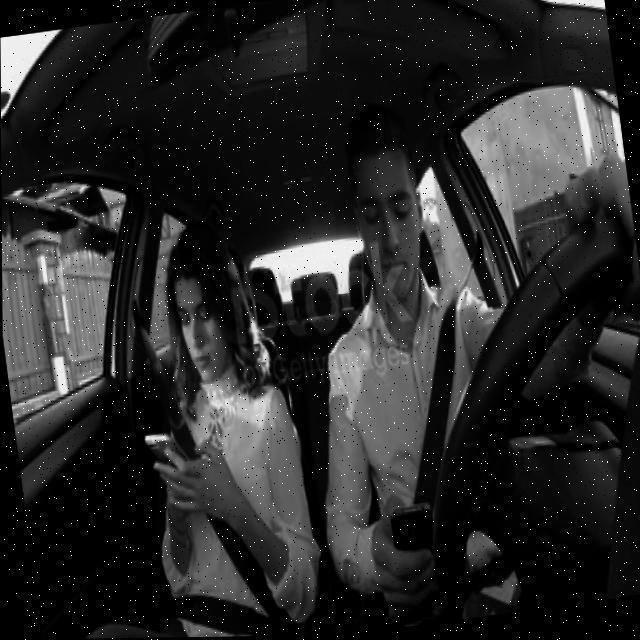PhoneCall: (386, 502, 438, 576), (140, 425, 192, 481)
